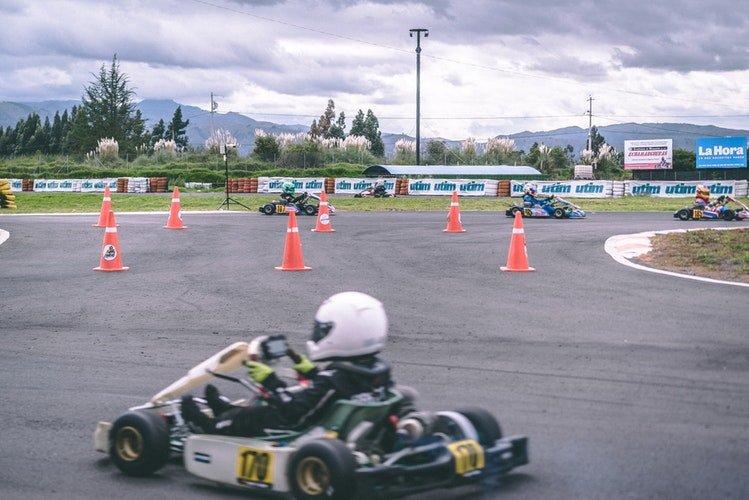helmet: (309, 289, 388, 360)
